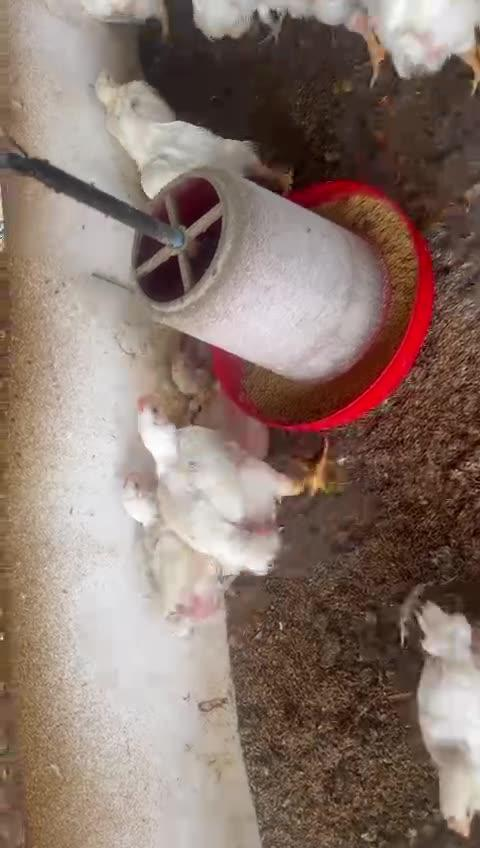AbNormal: (158, 349, 268, 456), (85, 57, 162, 125)
Normal: (132, 391, 338, 577), (108, 465, 230, 628), (400, 600, 480, 840), (102, 100, 270, 175), (284, 714, 285, 750)
